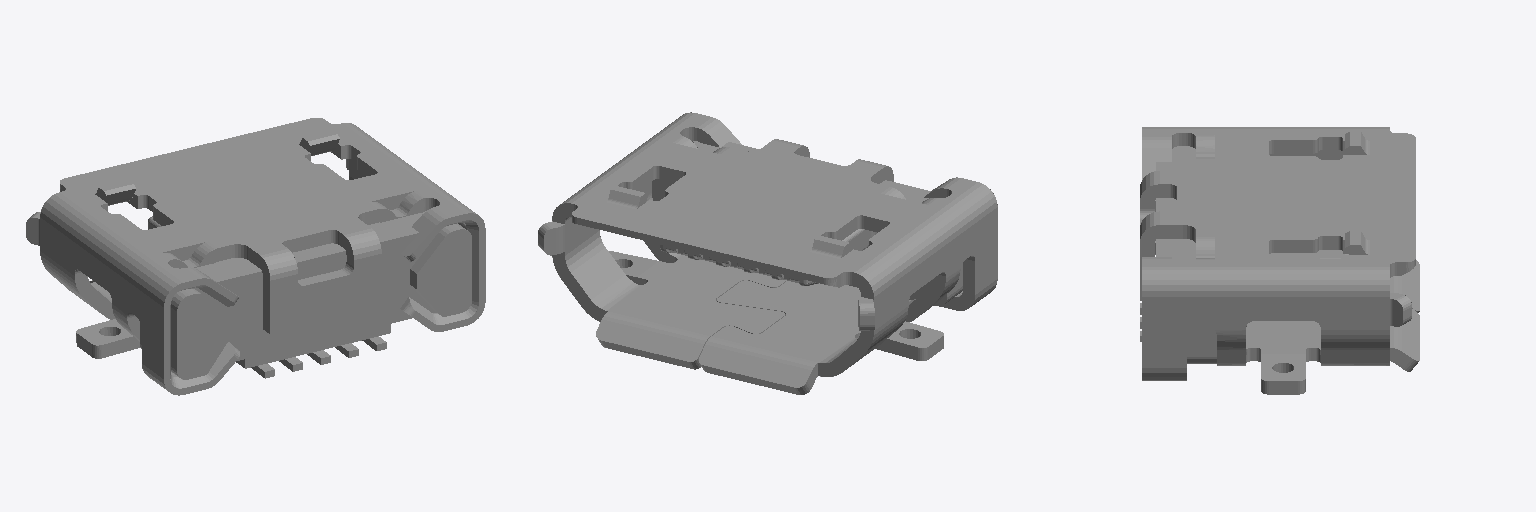
3 views of the same model, side by side, from view 1: azimuth 30°, elevation 25°; view 2: azimuth 150°, elevation 25°; view 3: azimuth 270°, elevation 25° (orthographic).
Visible parts, largest first — view 1: Shape_IndexedFaceSet; view 2: Shape_IndexedFaceSet; view 3: Shape_IndexedFaceSet.
Part boxes in pixels (left/top/right/bottom): Shape_IndexedFaceSet: left=26, top=118, right=485, bottom=395; Shape_IndexedFaceSet: left=538, top=112, right=997, bottom=394; Shape_IndexedFaceSet: left=1140, top=127, right=1419, bottom=394.
Bounding box in the file's own units: 7.91 × 3.01 × 5.66.